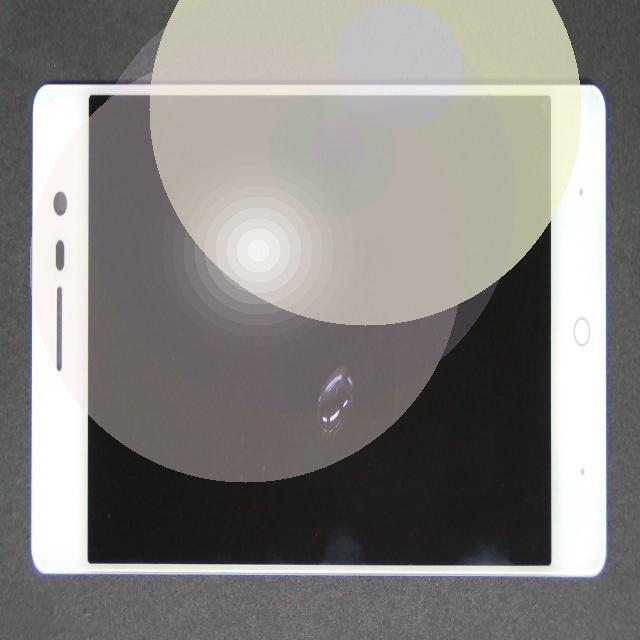oil: (181, 159, 495, 576)
